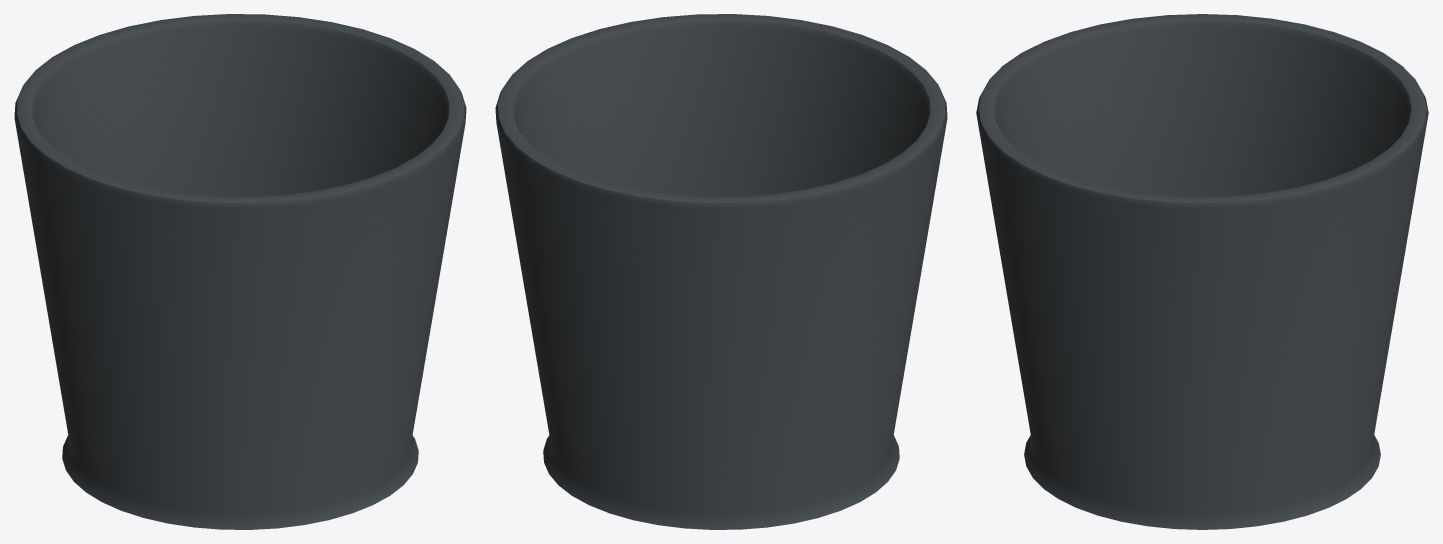
The model's file is TheMuraka_Int_Bucket.fbx.
3 renders of one model, left to right at view 1: azimuth 30°, elevation 25°; view 2: azimuth 150°, elevation 25°; view 3: azimuth 270°, elevation 25°, orthographic.
Visible parts, largest first — view 1: Bucket; view 2: Bucket; view 3: Bucket.
Boxes of the visible parts, box(x1,y1,x2,y2) form: Bucket: box(14, 14, 466, 529); Bucket: box(495, 14, 947, 529); Bucket: box(976, 14, 1428, 529).
Size of the model in its own units: 17.93 by 15.16 by 17.93.
